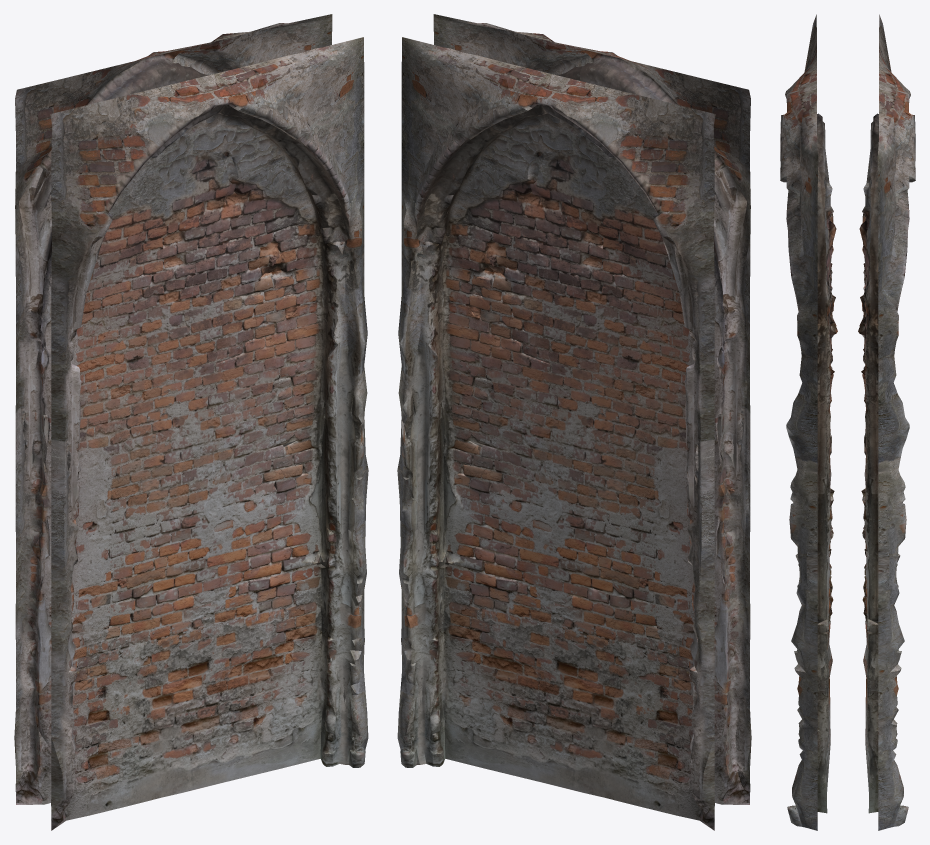
Rendered from SM_ChapelWall_01_12.fbx.
3 views of the same model, side by side, from view 1: azimuth 30°, elevation 25°; view 2: azimuth 150°, elevation 25°; view 3: azimuth 270°, elevation 25° (orthographic). The views are drawn at different scales.
Visible parts, largest first — view 1: sm_ChapelWall_01_12_LOD0; view 2: sm_ChapelWall_01_12_LOD0; view 3: sm_ChapelWall_01_12_LOD0.
Part boxes in pixels (left/top/right/bottom): sm_ChapelWall_01_12_LOD0: left=14, top=14, right=368, bottom=830; sm_ChapelWall_01_12_LOD0: left=397, top=14, right=751, bottom=830; sm_ChapelWall_01_12_LOD0: left=780, top=14, right=915, bottom=830.
Size of the model in its own units: 99.41 by 250 by 545.
